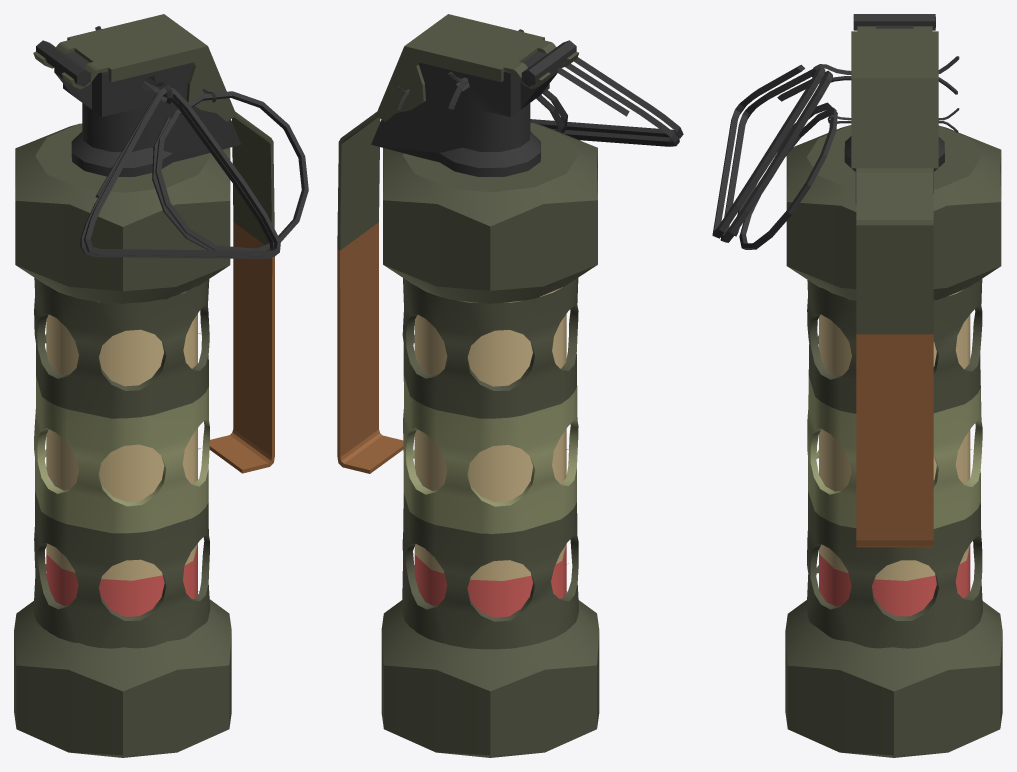
File: Mod_Flashbang.glb
3 views of the same model, side by side, from view 1: azimuth 30°, elevation 25°; view 2: azimuth 150°, elevation 25°; view 3: azimuth 270°, elevation 25° (orthographic).
Parts seen in each view (by area): view 1: Mod_Flashbang; view 2: Mod_Flashbang; view 3: Mod_Flashbang.
Part boxes in pixels (left/top/right/bottom): Mod_Flashbang: left=14, top=14, right=308, bottom=757; Mod_Flashbang: left=337, top=14, right=683, bottom=757; Mod_Flashbang: left=712, top=14, right=1002, bottom=757.
Size of the model in its own units: 0.0617 by 0.1619 by 0.0627.
1 material, 1 textured.
